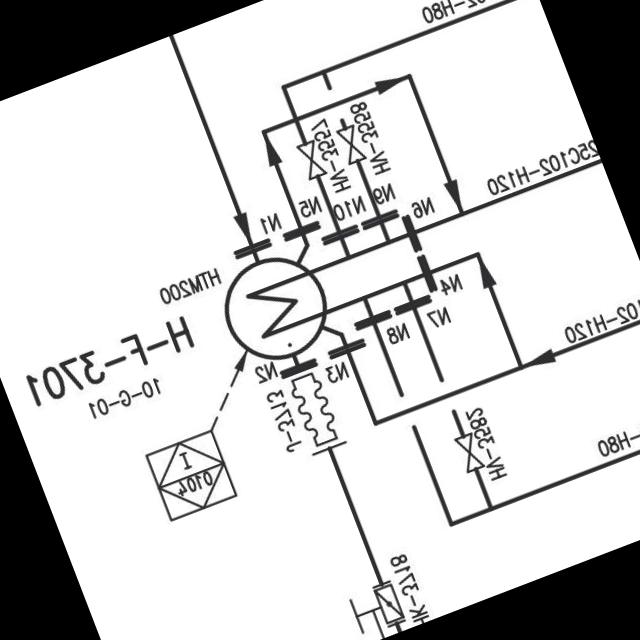BV: (337, 571, 410, 640)
EJ: (277, 358, 352, 463)
GV: (328, 116, 373, 172), (288, 134, 329, 184), (450, 426, 488, 477)
HE: (205, 242, 342, 380)
